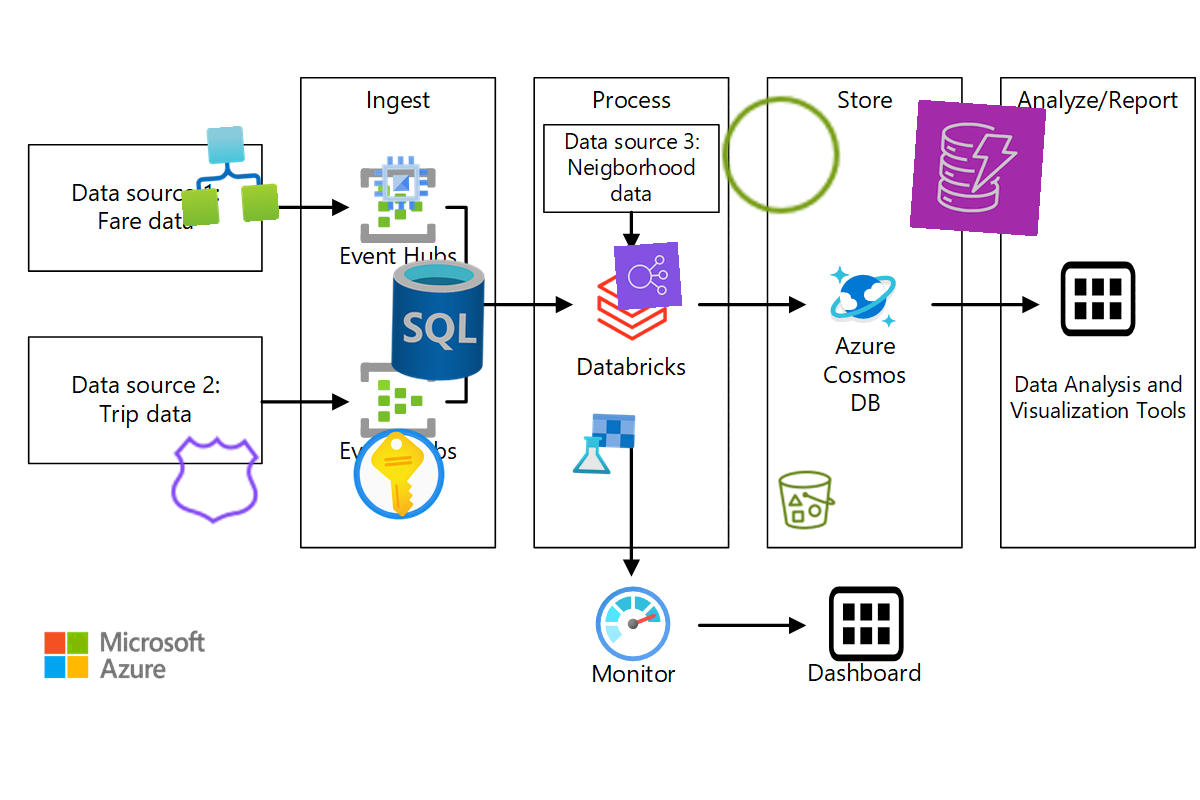aws_amazon_dynamodb: (909, 99, 1047, 237)
aws_elastic_load_balancing: (613, 241, 683, 311)
aws_route_53_hosted_zone: (165, 429, 267, 531)
aws_simple_storage_service_bucket_with_objects: (774, 467, 840, 533)
aws_simple_storage_service_object: (715, 89, 847, 221)
azure_key_vaults: (347, 422, 451, 526)
azure_logic_apps: (176, 123, 280, 227)
azure_machine_learning_studio_workspaces: (570, 410, 638, 478)
azure_sql_database: (372, 254, 504, 386)
gcp_compute_engine: (368, 150, 434, 216)
